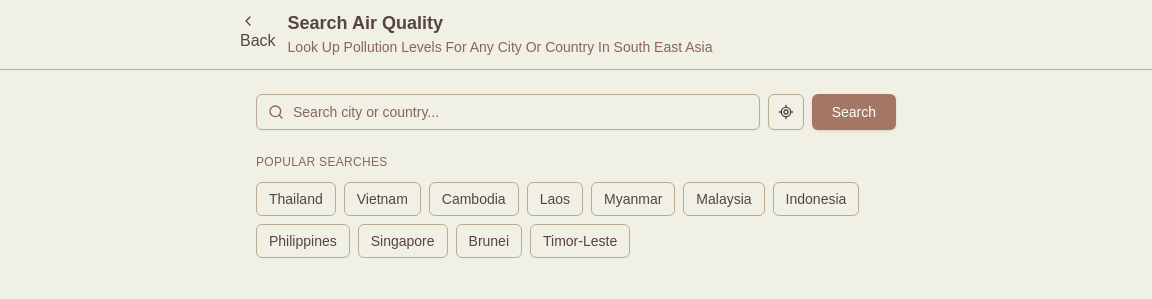
Test: SearchSection › shows location error when geolocation returns no coordinates
Click the button named "Detect my location": (786, 112) [768,94,804,130]
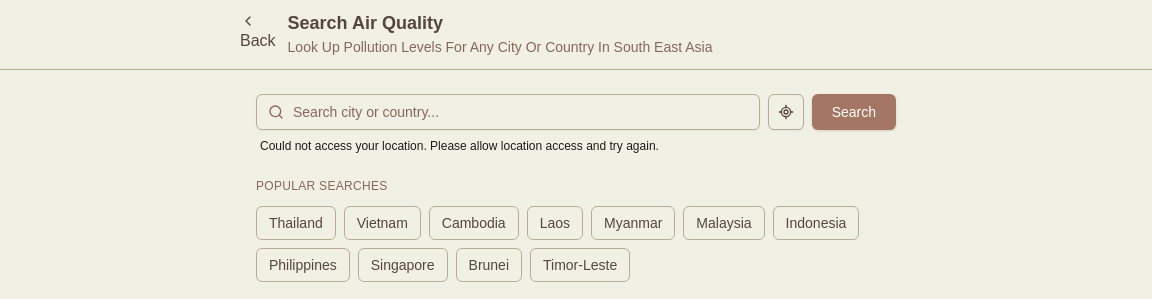
expect the text "Could not access your location. Please allow location access and try again." is shown: met, box [260,139,659,153]
